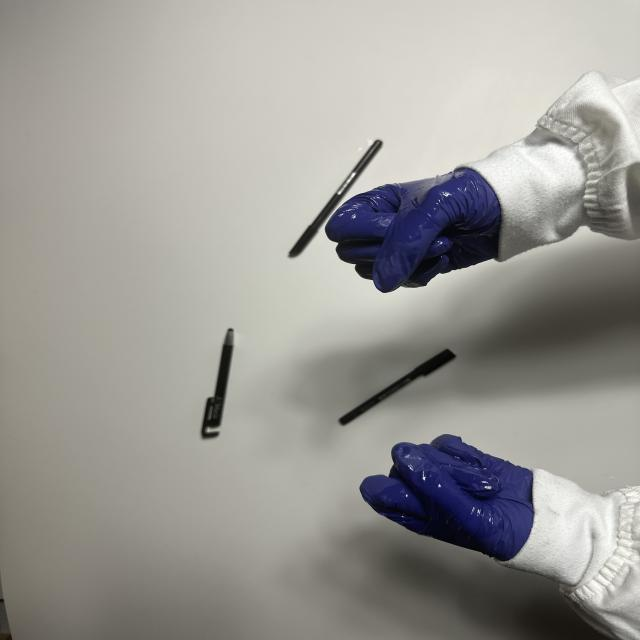gloves_contaminated: (361, 435, 534, 561), (326, 169, 502, 292)
